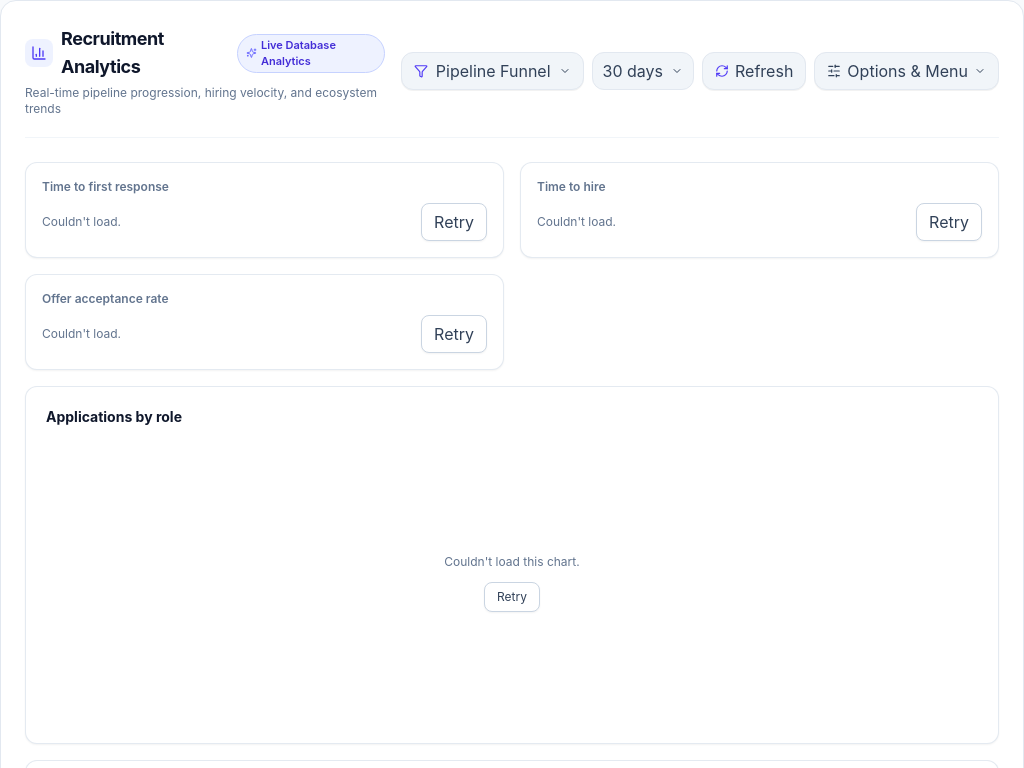
Test: CompanyPerformanceCharts › shows Retry on failure and keeps the existing pipeline chart available
Expected: the button with aria-label "Analytics view: Pipeline Funnel" is shown, [401,52,584,90]
Expected: the text "Couldn't load this chart." is shown, [444,554,580,570]
Click the button "Retry" below "Time to first response" at (454, 222), box [421,203,487,241]
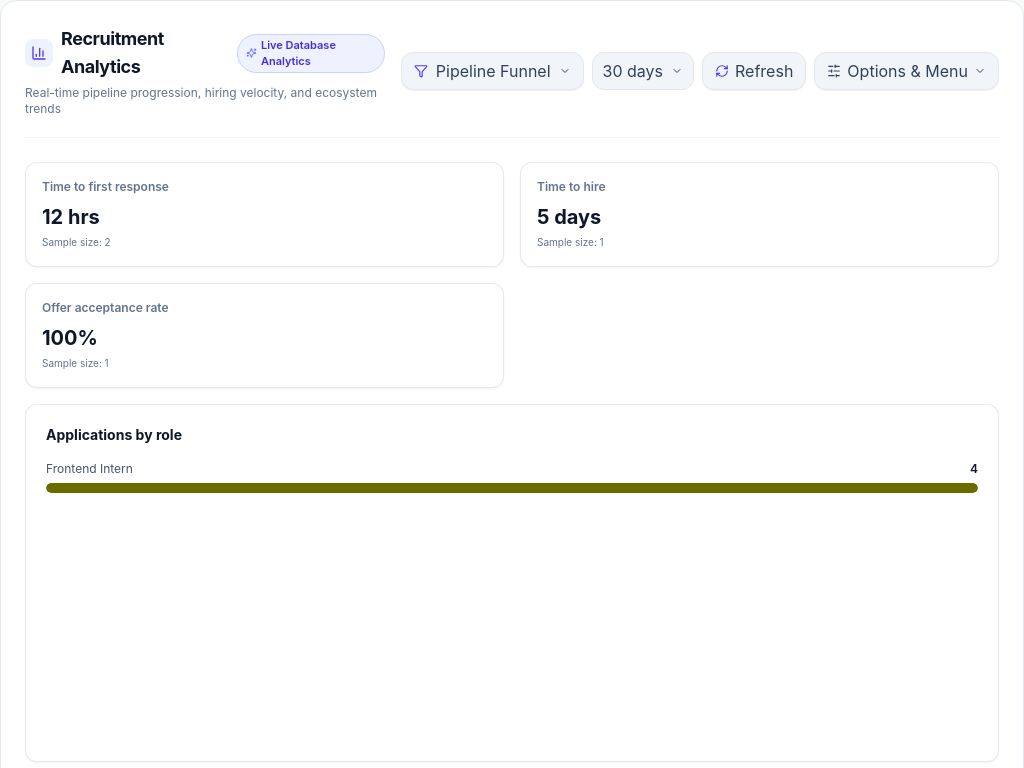
Expected: the button with aria-label "Analytics view: Pipeline Funnel" is shown, [401,52,584,90]
Now the text "Frontend Intern" is shown, box [46,461,133,477]
